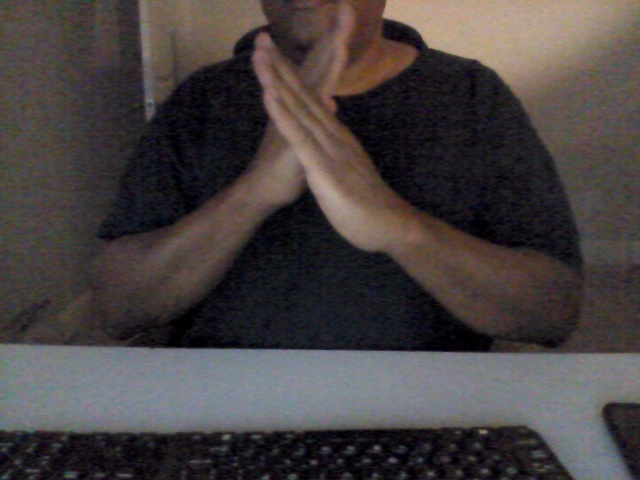quiet: (235, 4, 396, 260)
